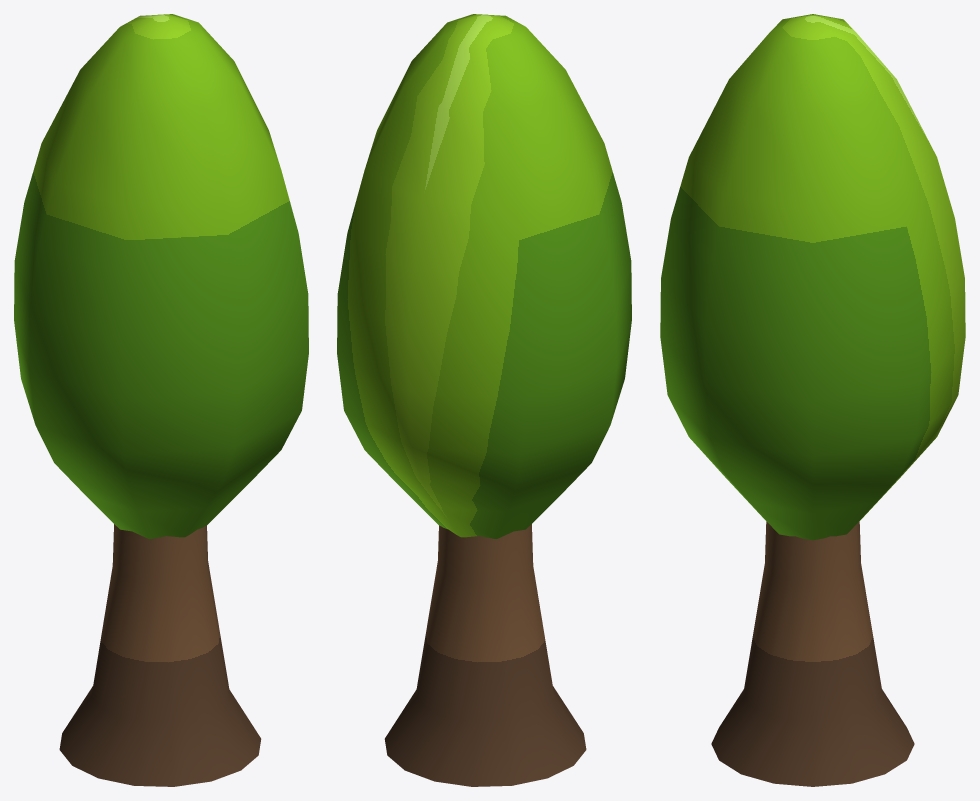
File: Tree_thin.fbx
The picture shows the model from 3 angles, left to right: view 1: azimuth 30°, elevation 25°; view 2: azimuth 150°, elevation 25°; view 3: azimuth 270°, elevation 25°; orthographic projection.
Parts seen in each view (by area): view 1: Cylinder.001; view 2: Cylinder.001; view 3: Cylinder.001.
Part boxes in pixels (x1,y1,x2,y2): Cylinder.001: [14, 14, 308, 786]; Cylinder.001: [337, 14, 631, 786]; Cylinder.001: [660, 14, 965, 786].
Bounding box in the file's own units: 109 × 288 × 109.
